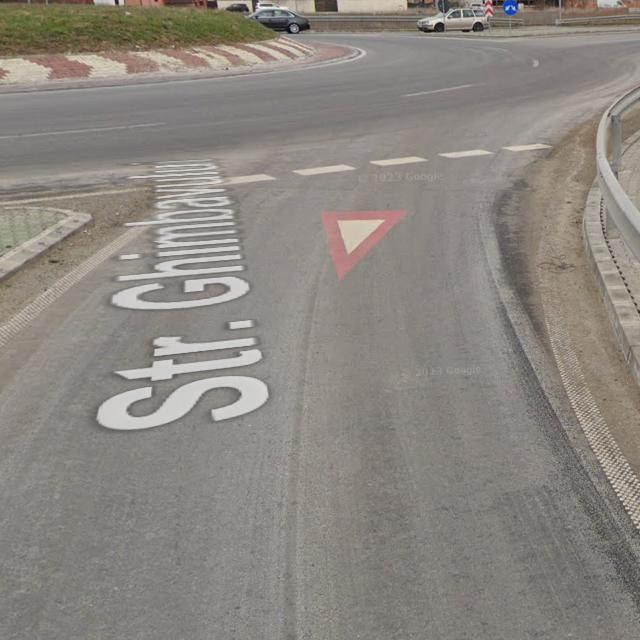prio_give_way: (316, 207, 412, 280)
